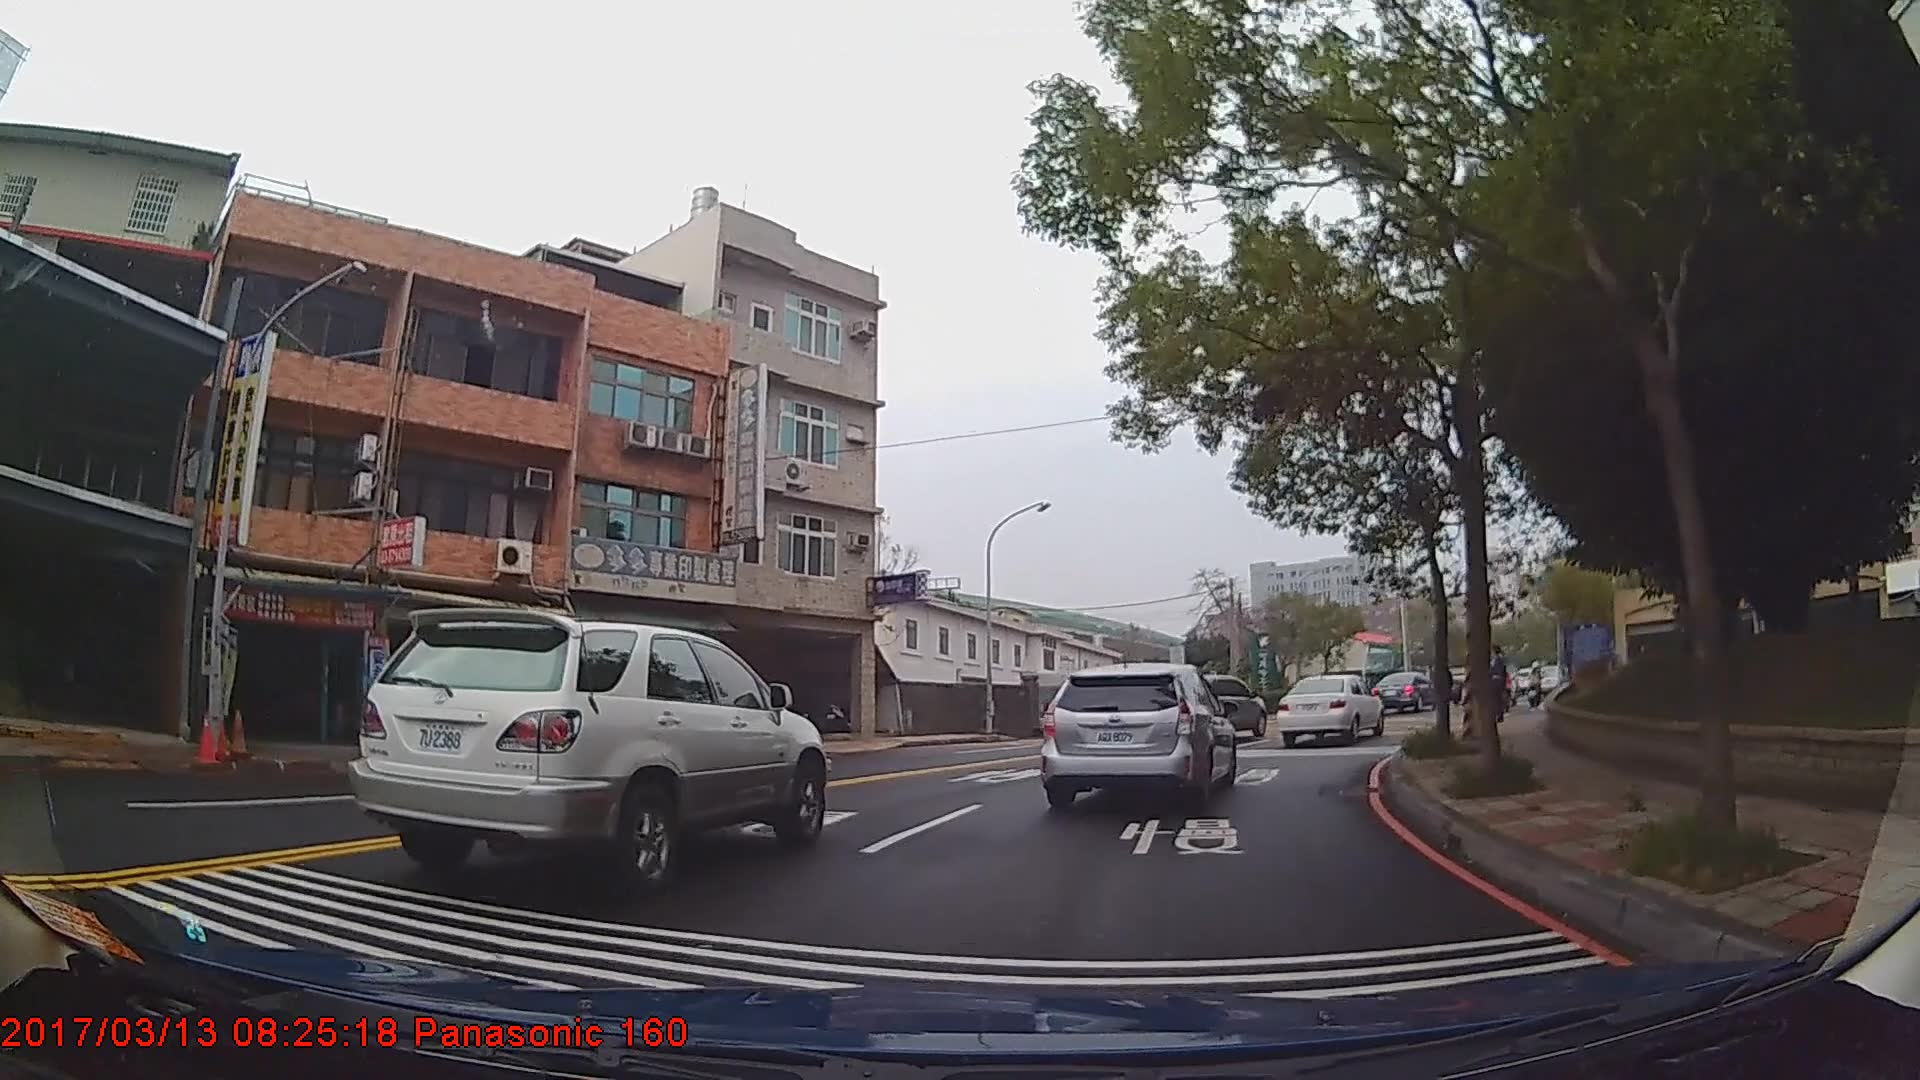vehicle: (345, 605, 827, 895), (1035, 659, 1233, 810), (1270, 671, 1381, 744), (1171, 673, 1265, 742), (1367, 667, 1435, 715)
